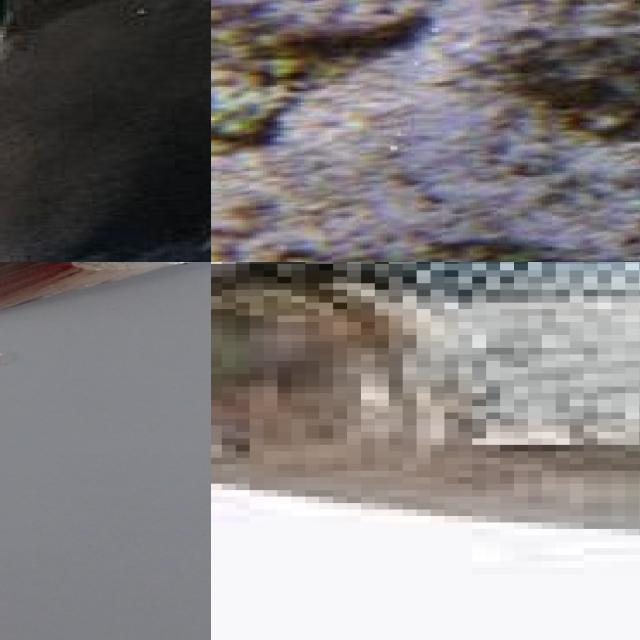fish: (211, 262, 640, 640), (0, 0, 211, 262), (0, 262, 211, 359)
